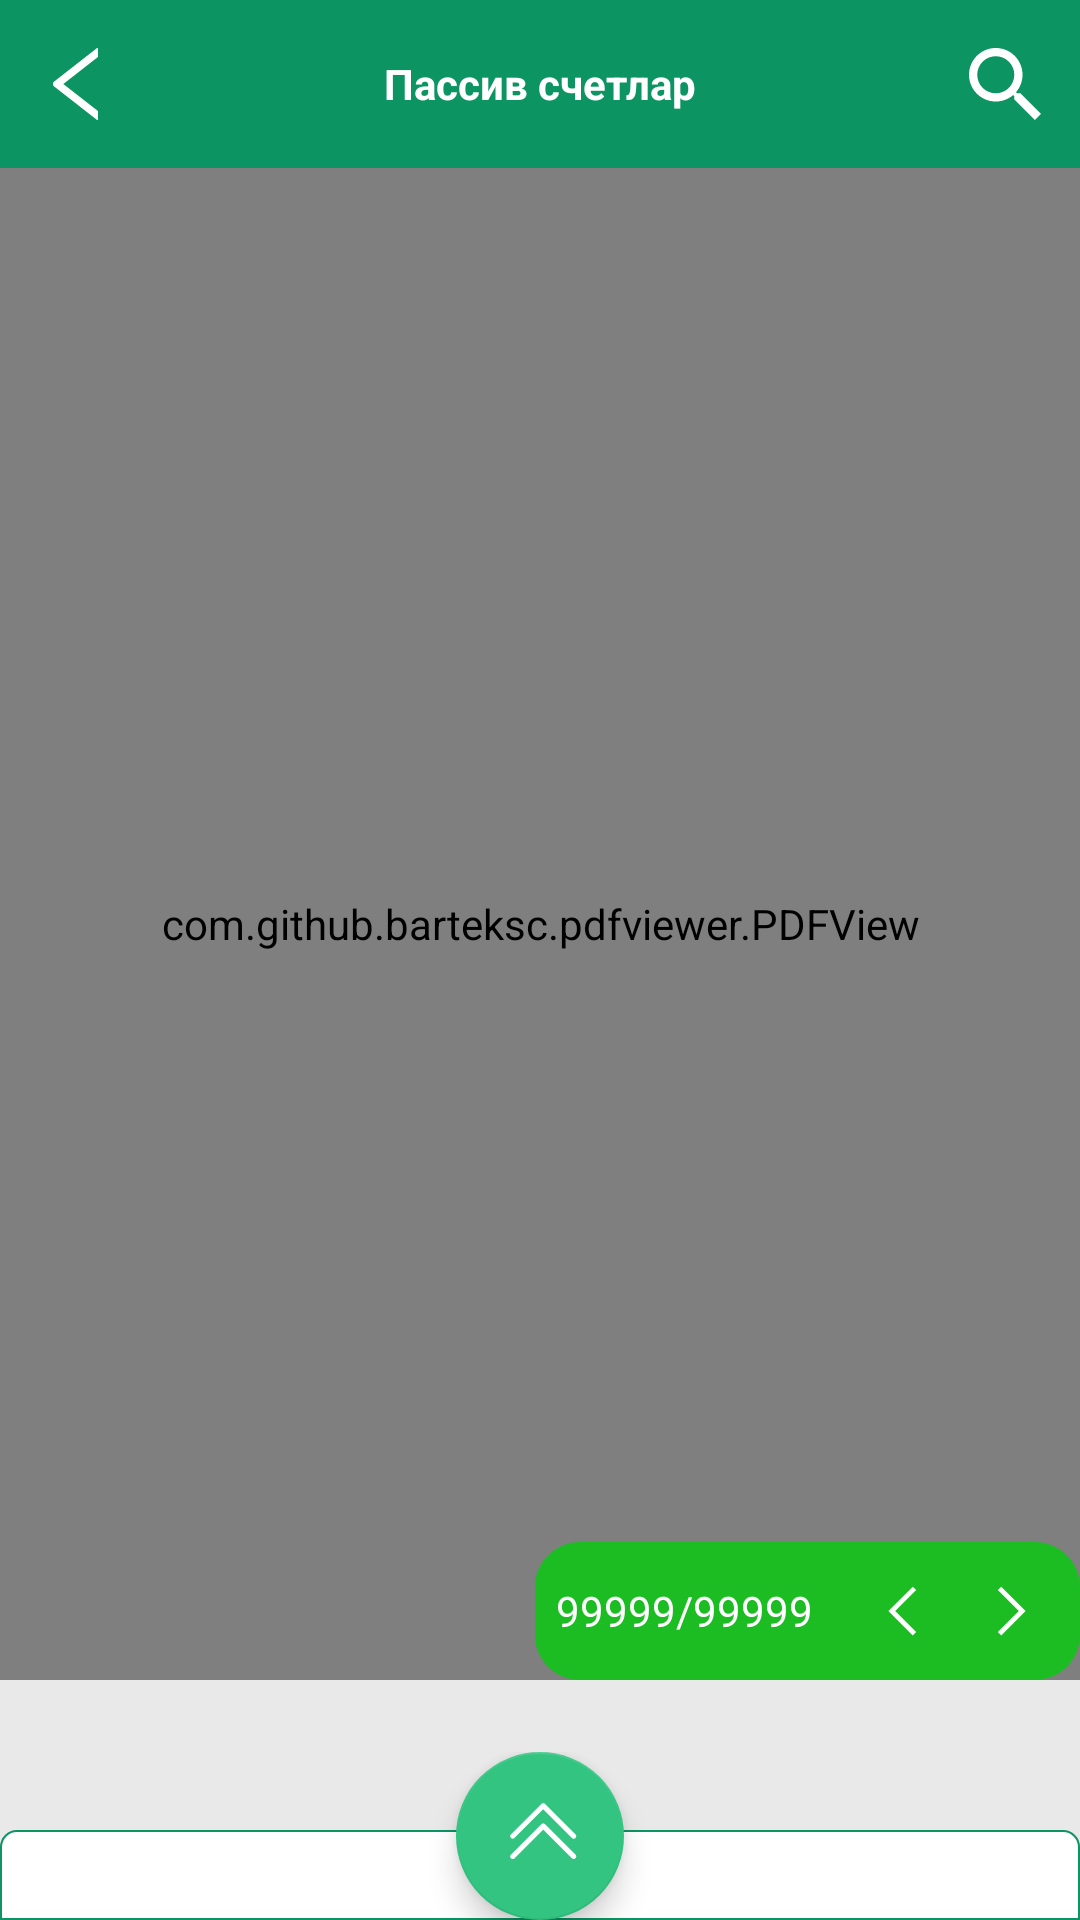

Icons on this 1080 × 1920 Android screen, each with its box as bbox=[x1, y1, x2, y2]:
back: bbox=[53, 48, 98, 120]
carbon chevron left: bbox=[888, 1587, 916, 1636]
carbon chevron right: bbox=[998, 1587, 1026, 1636]
search: bbox=[969, 48, 1041, 120]
upbutton: bbox=[456, 1752, 624, 1920]
